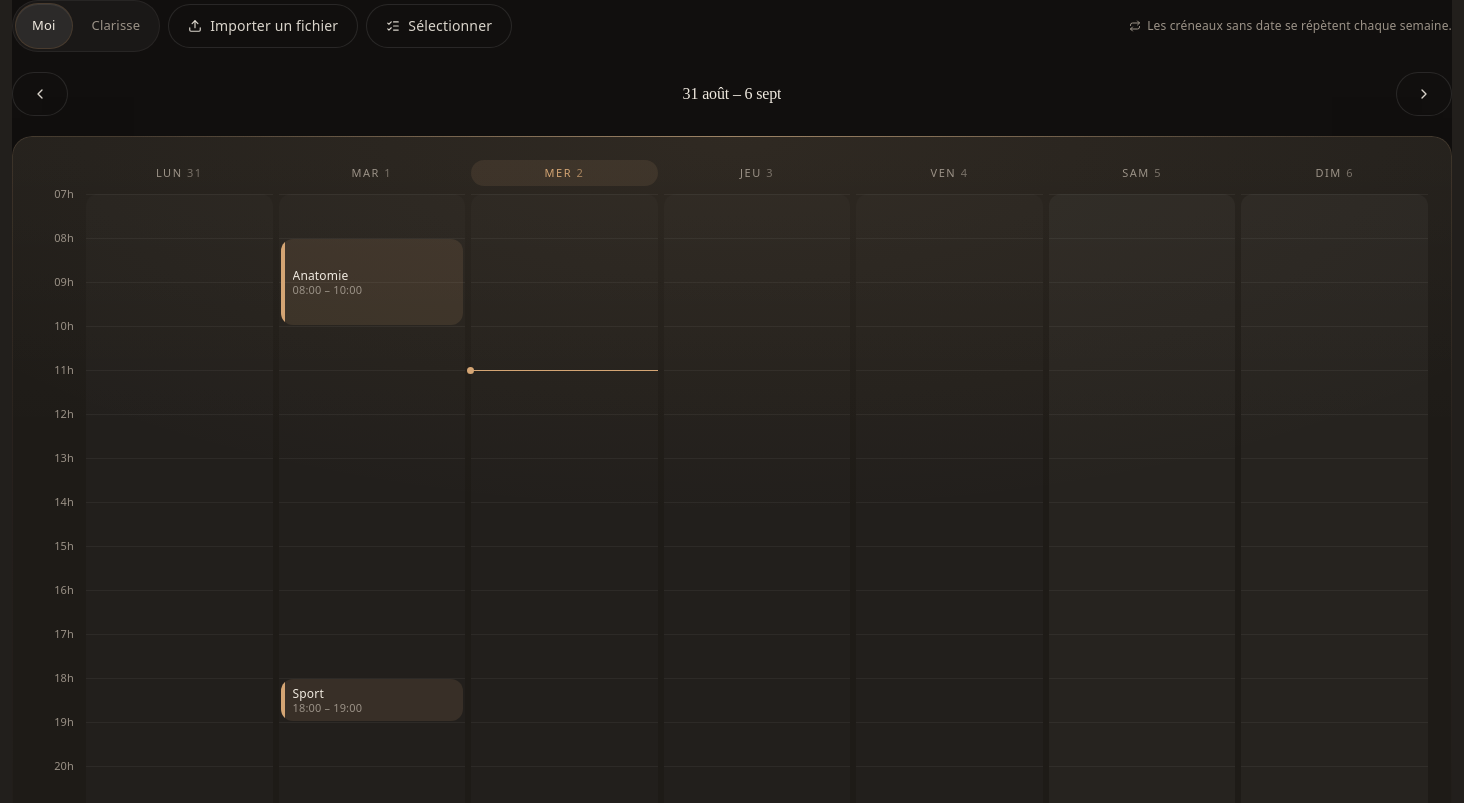
Scenario: Emploi du temps — semaines et dates › la semaine suivante montre son cours, et plus celui d’avant
Click the button named "Semaine suivante" at (1424, 94), box [1396,72,1452,116]
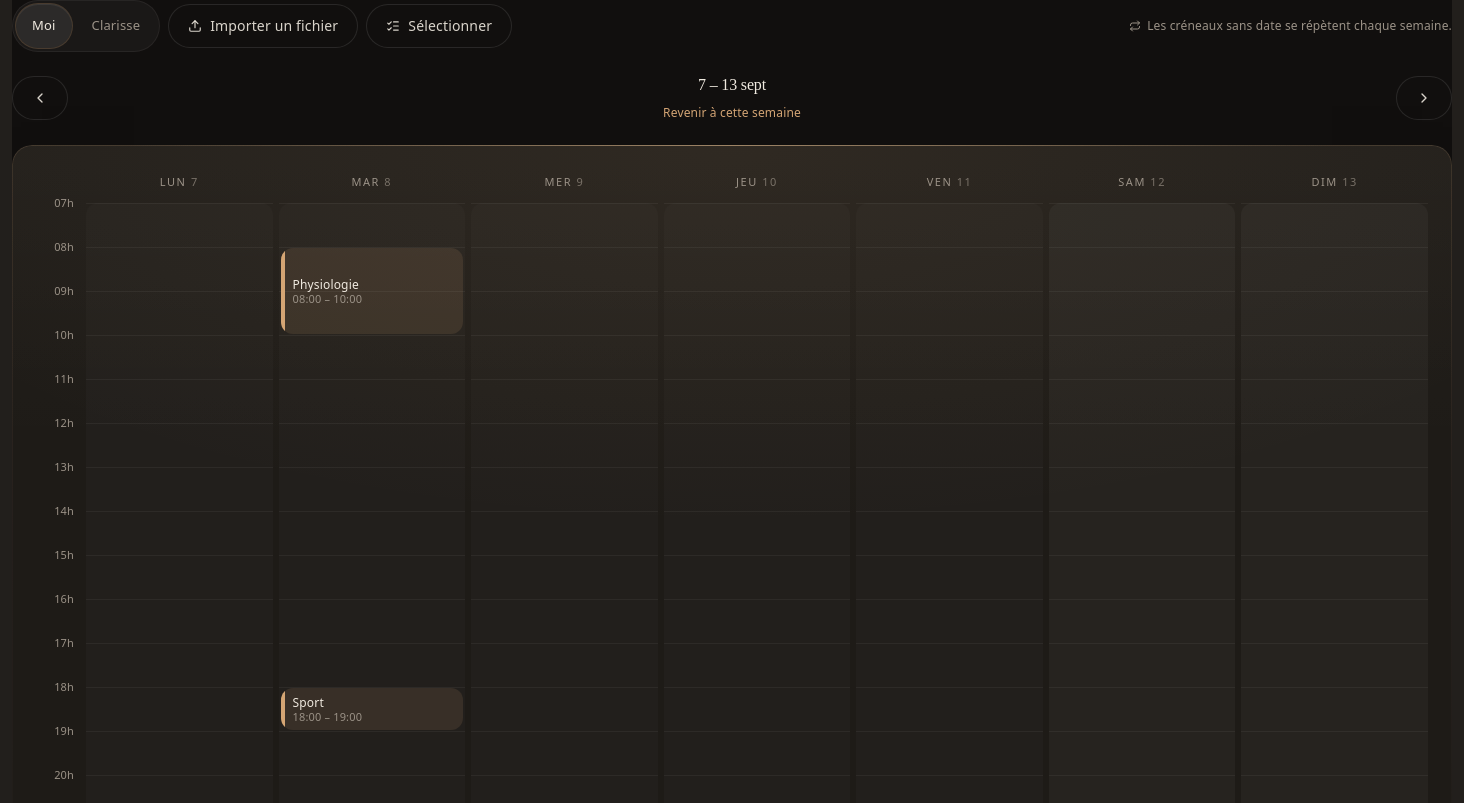
Check: the text "Sport" is shown, box [293,694,324,710]
Check: the button "Anatomie" is gone
